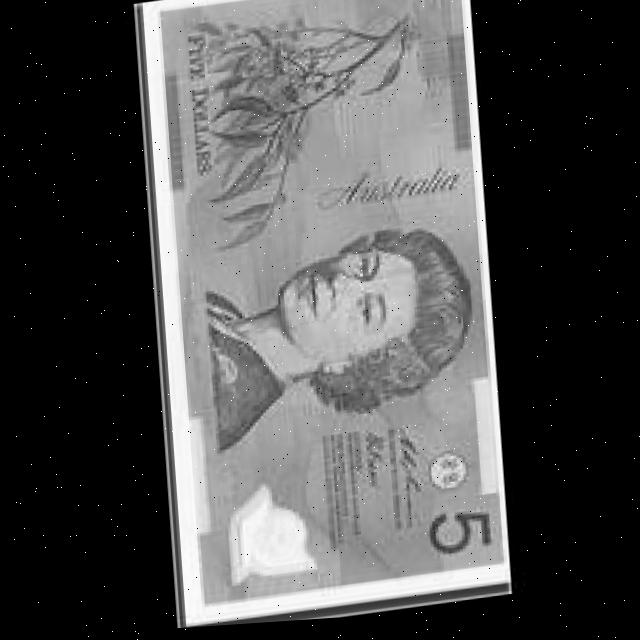banknote: (135, 0, 511, 633)
